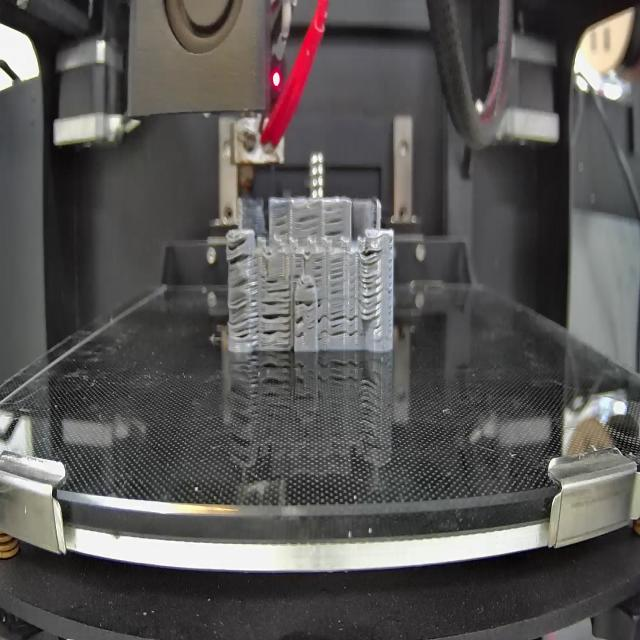cracks: (231, 279, 258, 343), (361, 250, 381, 319), (263, 302, 291, 341), (227, 240, 252, 266), (330, 258, 344, 294), (265, 278, 291, 297), (330, 310, 346, 338), (317, 297, 327, 338), (326, 214, 344, 236), (275, 214, 288, 236), (294, 299, 314, 312), (348, 312, 358, 337), (293, 256, 303, 280), (313, 259, 323, 281), (296, 216, 318, 226), (296, 316, 304, 342), (304, 282, 314, 292)
